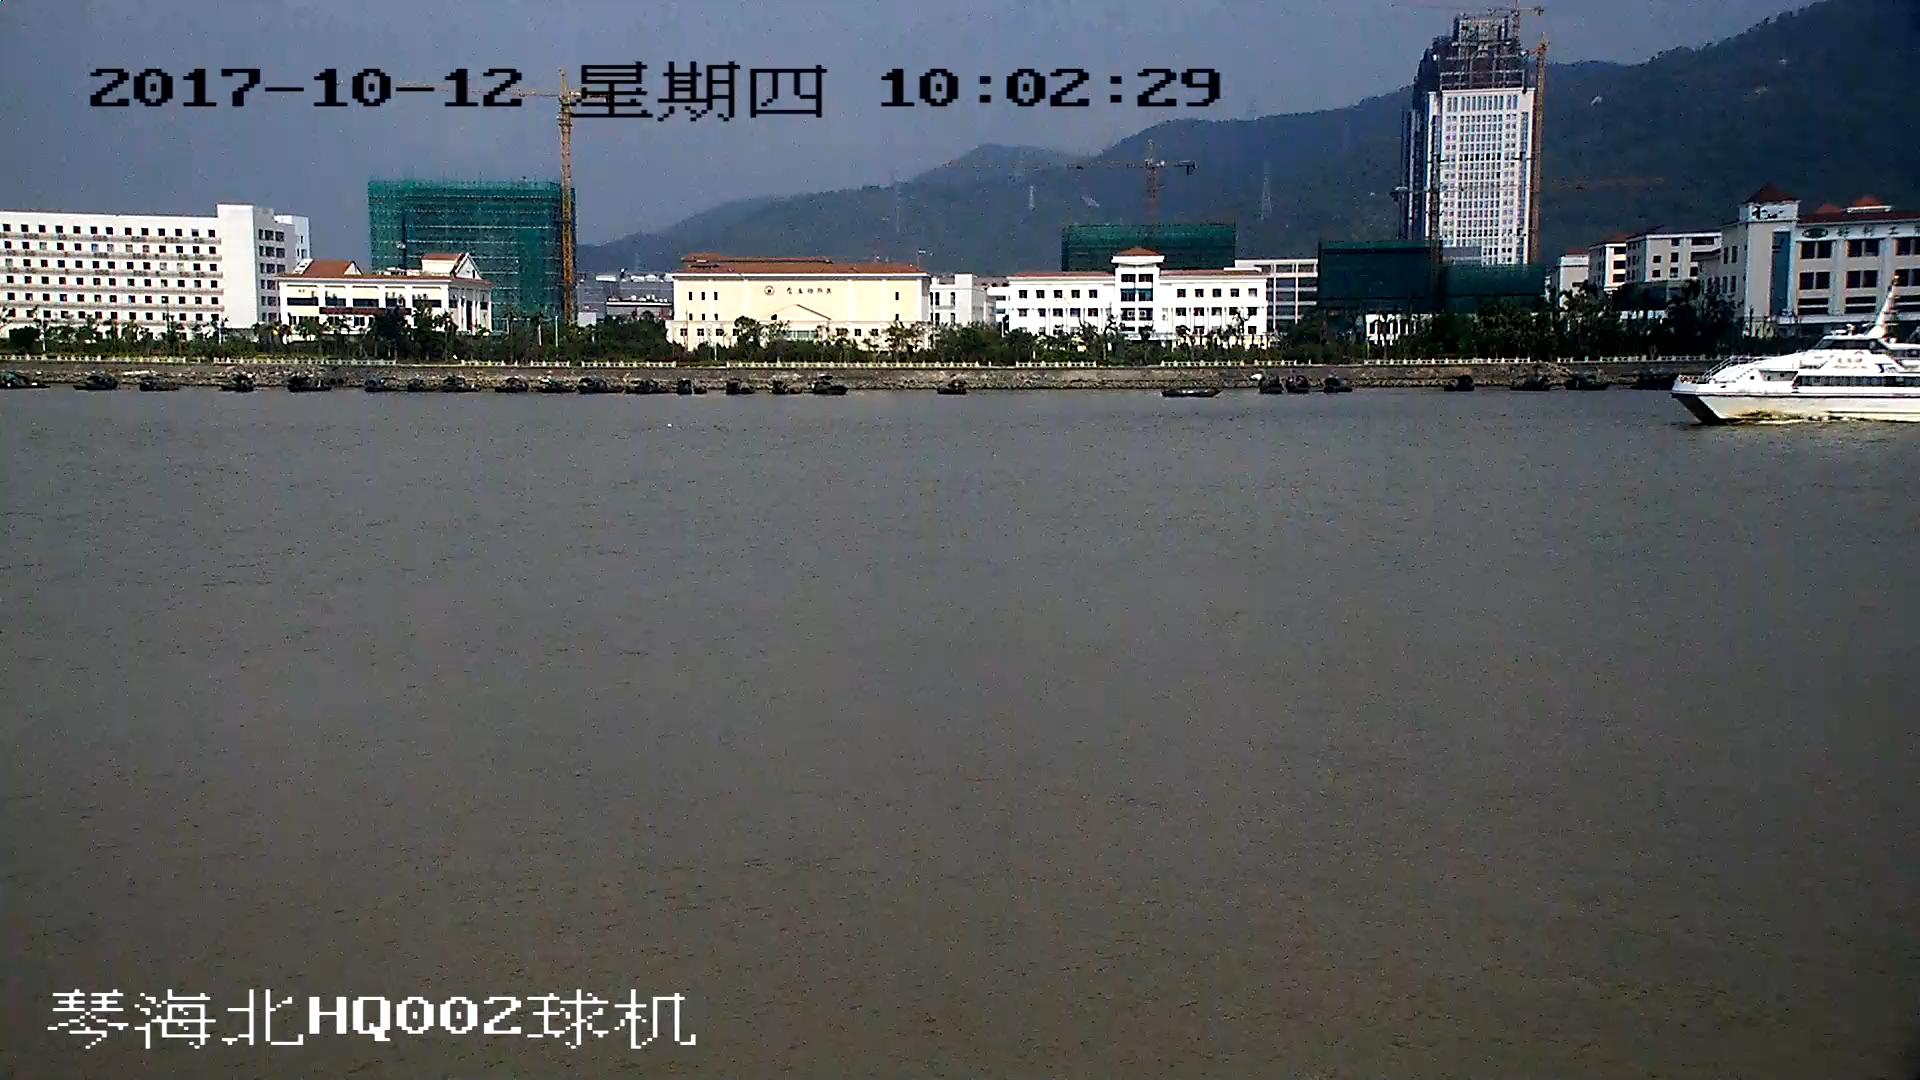passenger ship: (1675, 278, 1920, 423)
